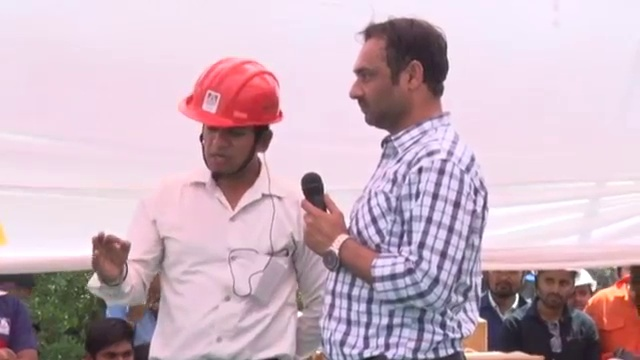helmet: (175, 60, 286, 131), (573, 271, 599, 289)
helmet_off: (350, 19, 454, 133), (85, 315, 138, 359), (534, 266, 579, 317), (487, 266, 525, 304), (0, 273, 36, 304), (616, 268, 640, 307)
helmet_on: (173, 60, 285, 182), (573, 267, 599, 308)
person: (86, 51, 329, 358), (305, 12, 495, 360), (501, 269, 602, 358), (475, 262, 537, 343), (584, 269, 638, 352), (0, 273, 39, 360)
